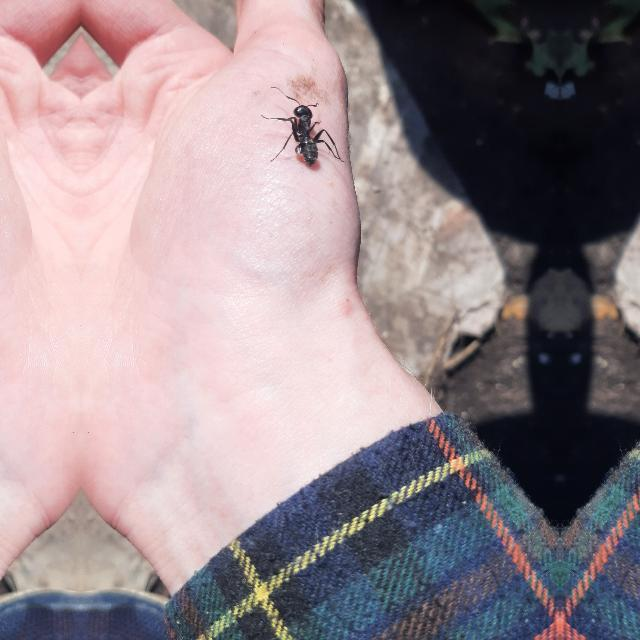Camponotus: (270, 81, 344, 172)
